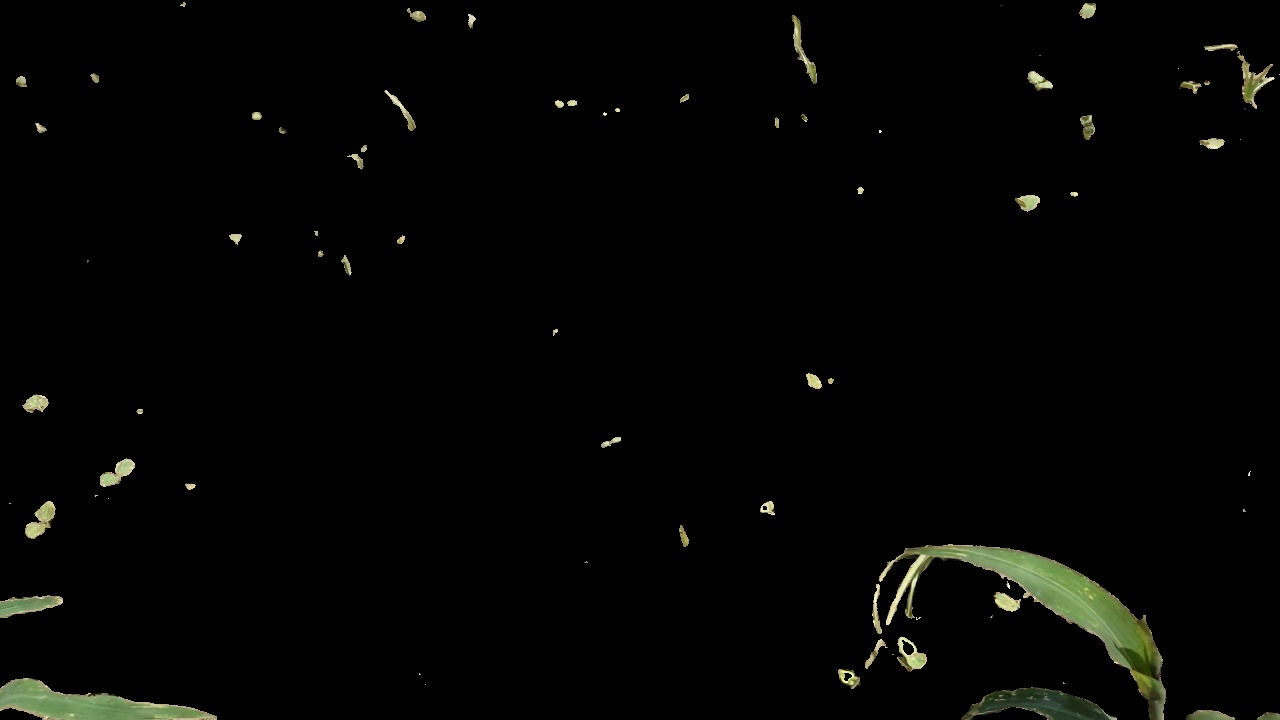crop: (829, 527, 1280, 720)
weed: (892, 638, 929, 672)
